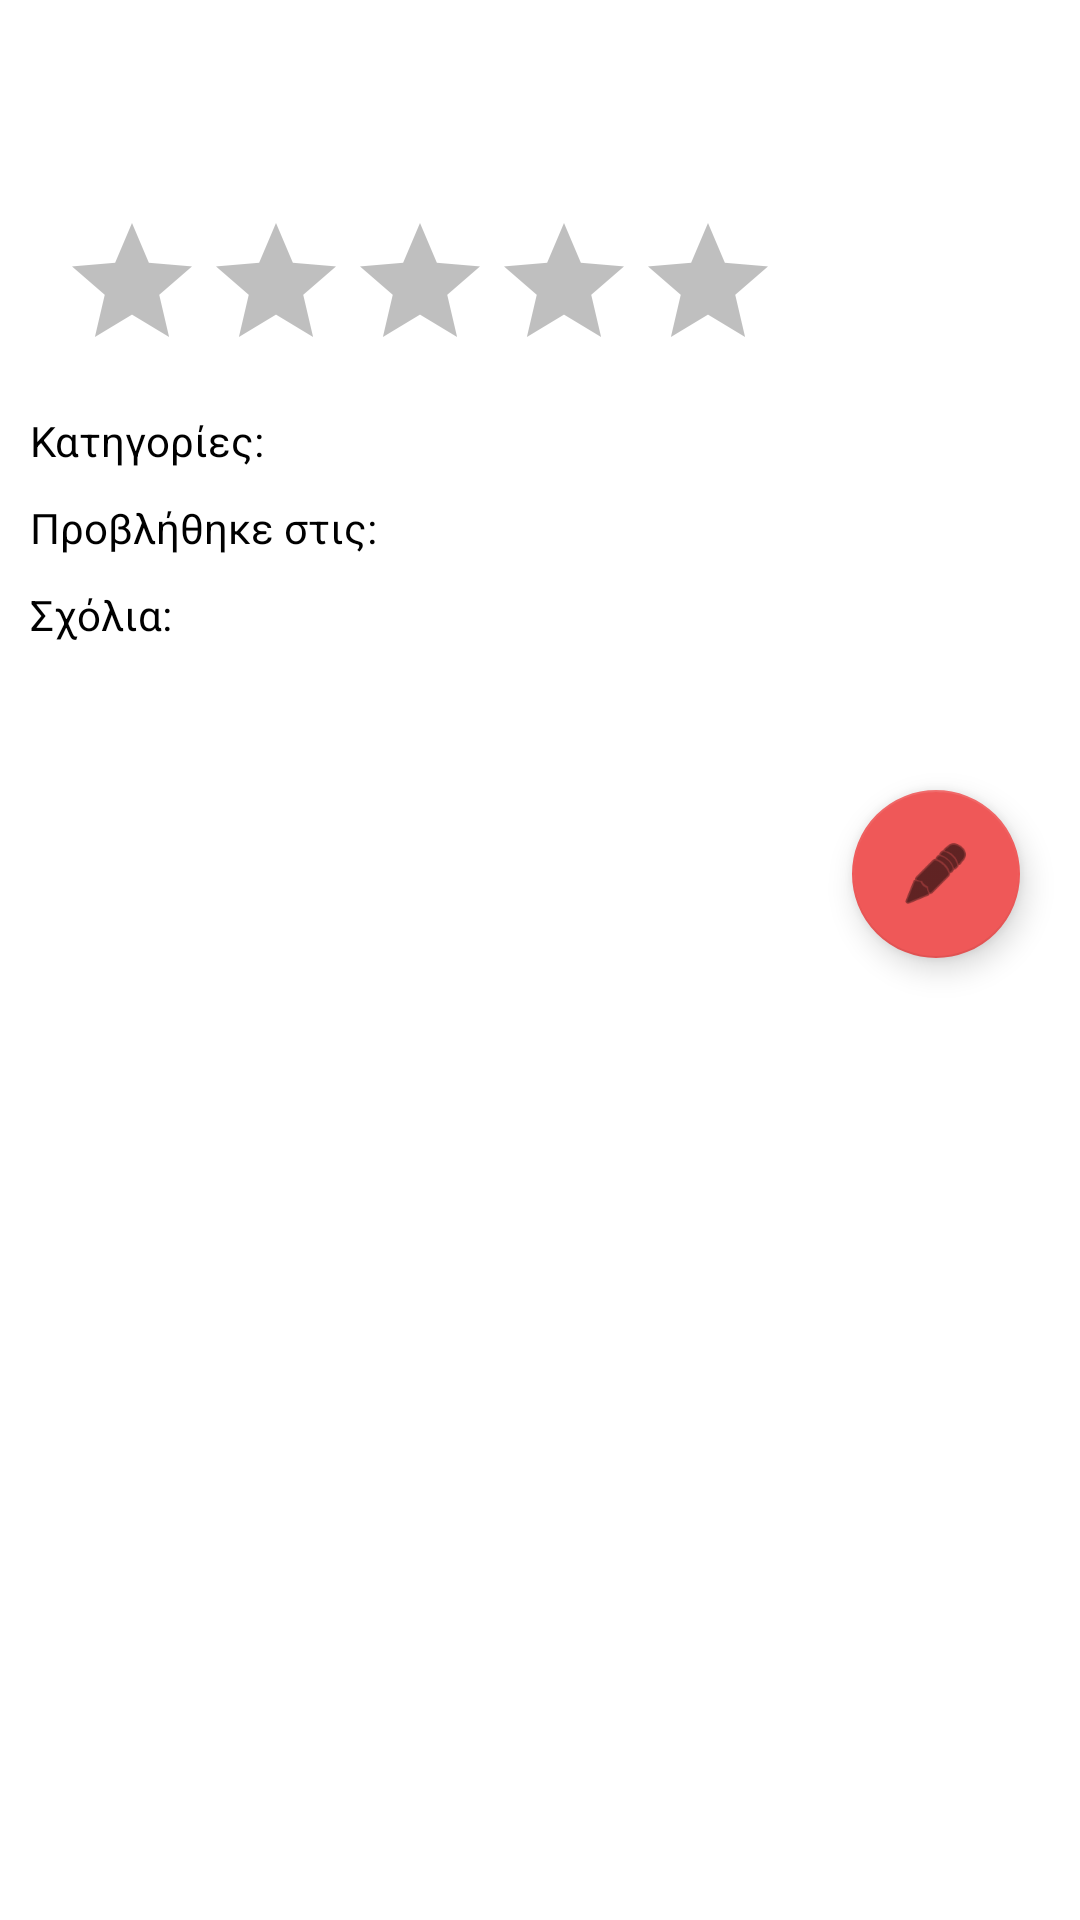

Where to tap for icons on this 1080*1920 app screen, as point (x, y):
edit: point (936, 874)
